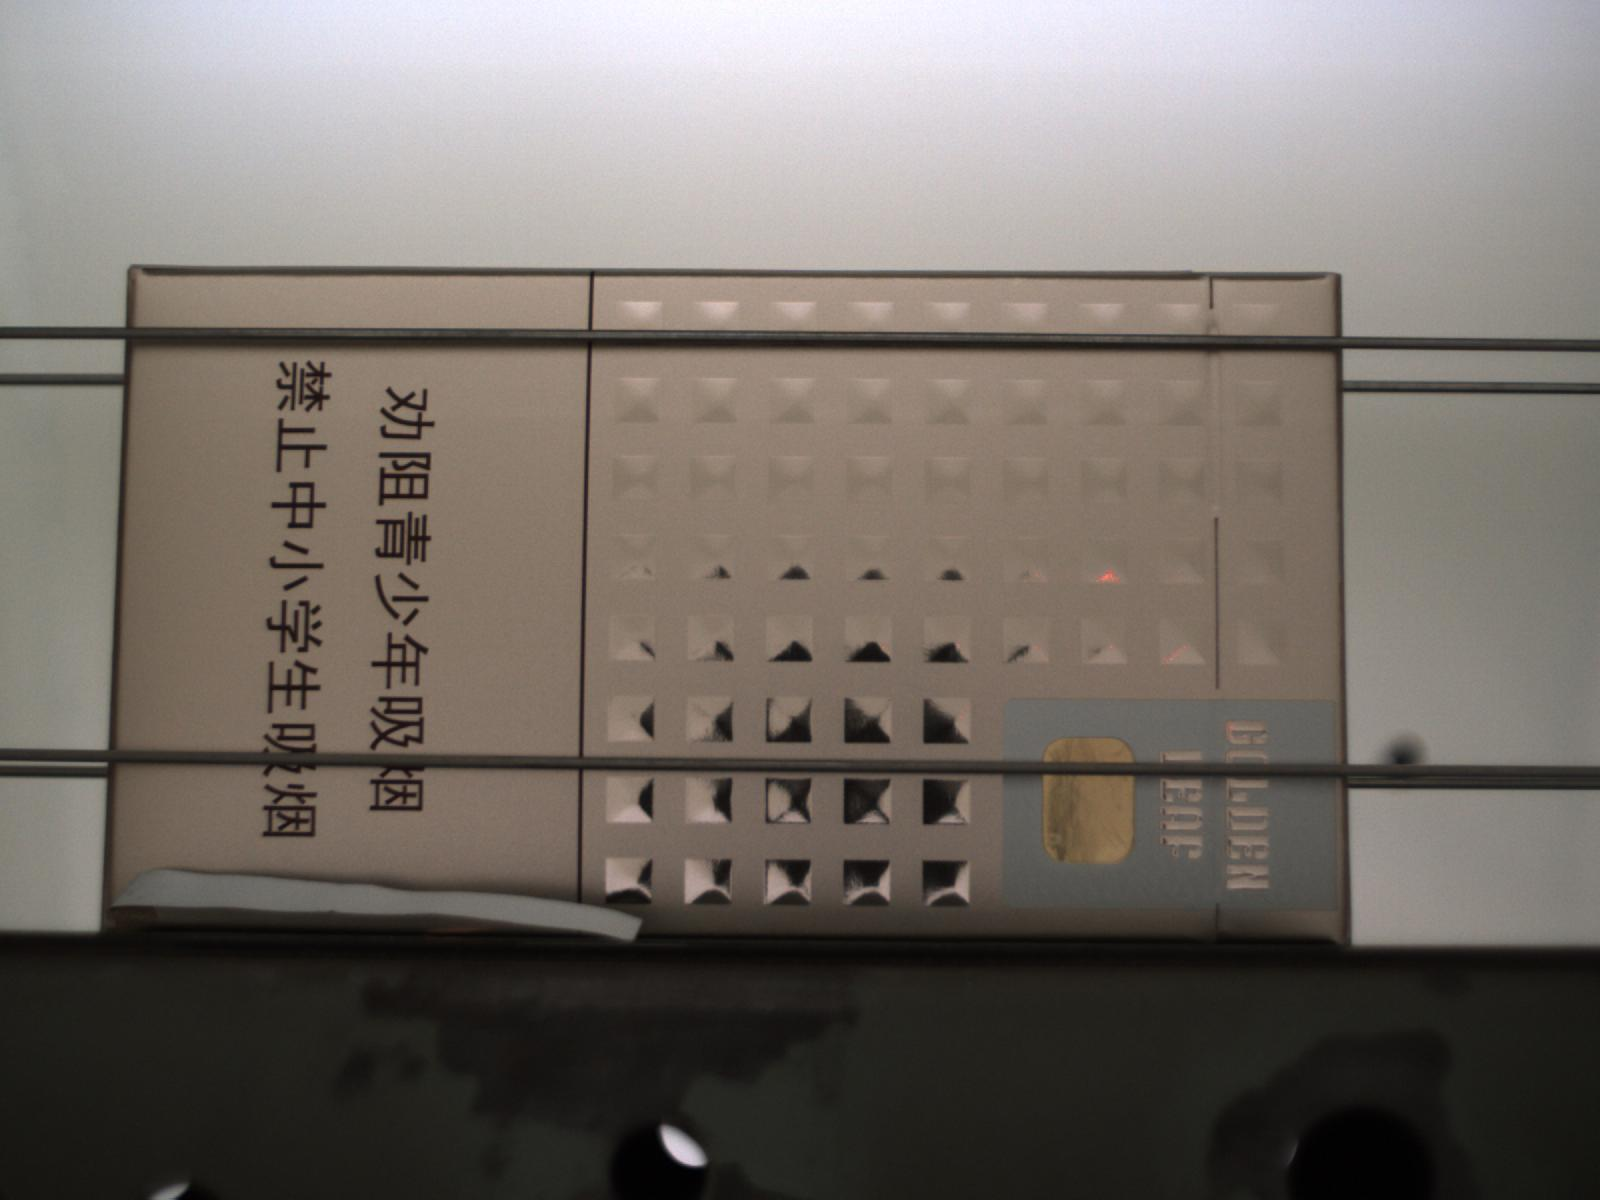dirtyScratch: (101, 863, 661, 934)
skewed_upper_0: (100, 868, 152, 932)
